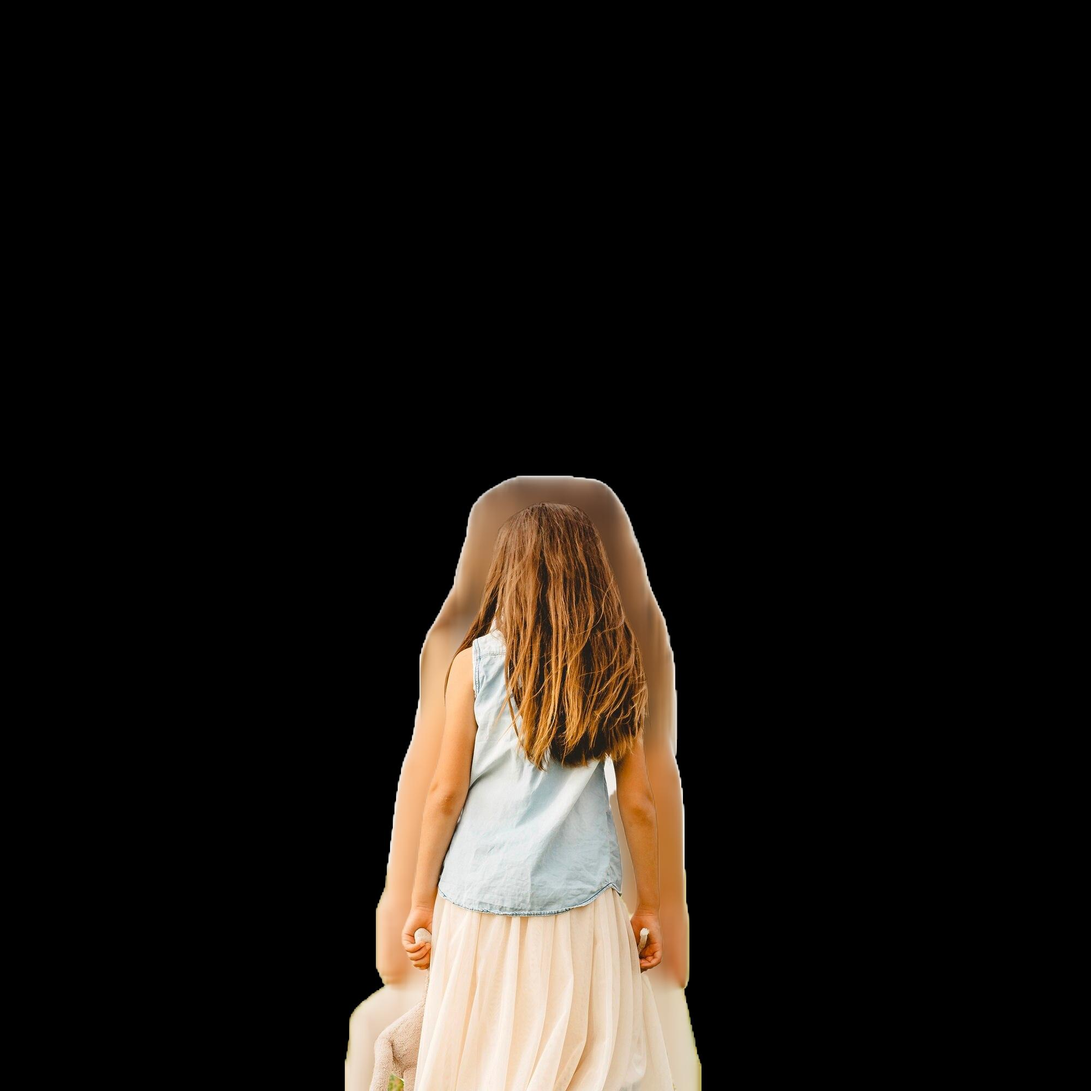Human: (385, 445, 684, 1091)
